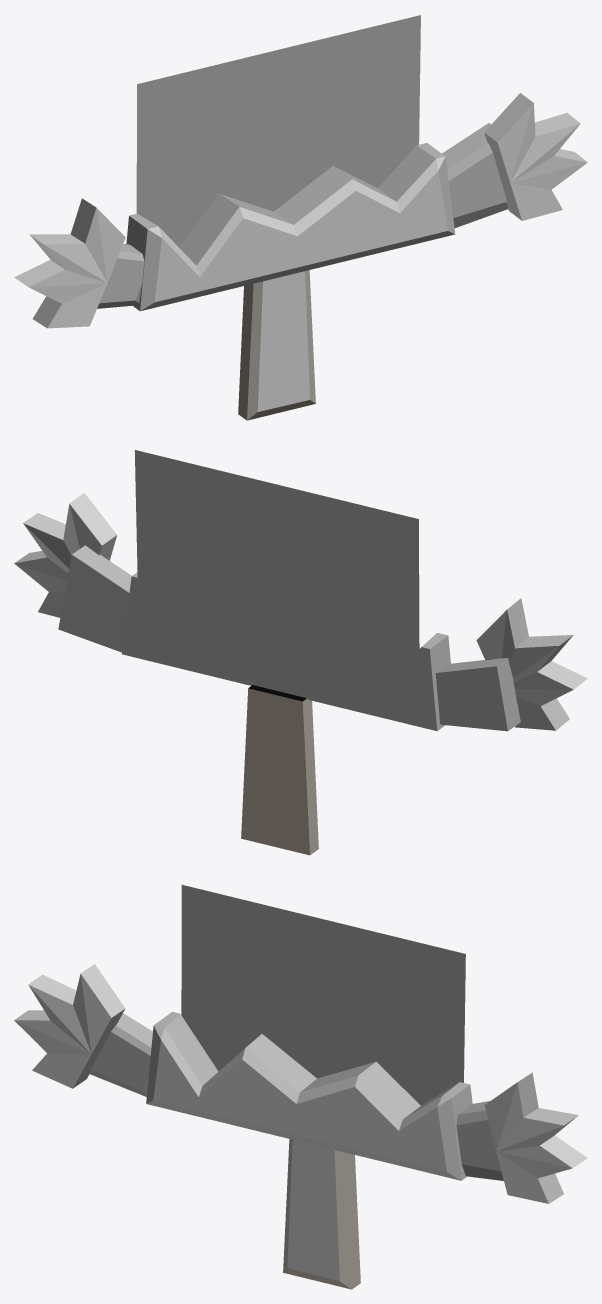
Rendered from YetiSignBossBottom.glb.
The picture shows the model from 3 angles, top to bottom: view 1: azimuth 30°, elevation 25°; view 2: azimuth 150°, elevation 25°; view 3: azimuth 330°, elevation 25°; orthographic projection.
Parts seen in each view (by area): view 1: YetiSignBossBottom; view 2: YetiSignBossBottom; view 3: YetiSignBossBottom.
Boxes of the visible parts, box(x1,y1,x2,y2) form: YetiSignBossBottom: box(14, 15, 587, 420); YetiSignBossBottom: box(14, 450, 587, 855); YetiSignBossBottom: box(14, 885, 587, 1289).
Size of the model in its own units: 2.51 by 1.54 by 0.2754.
